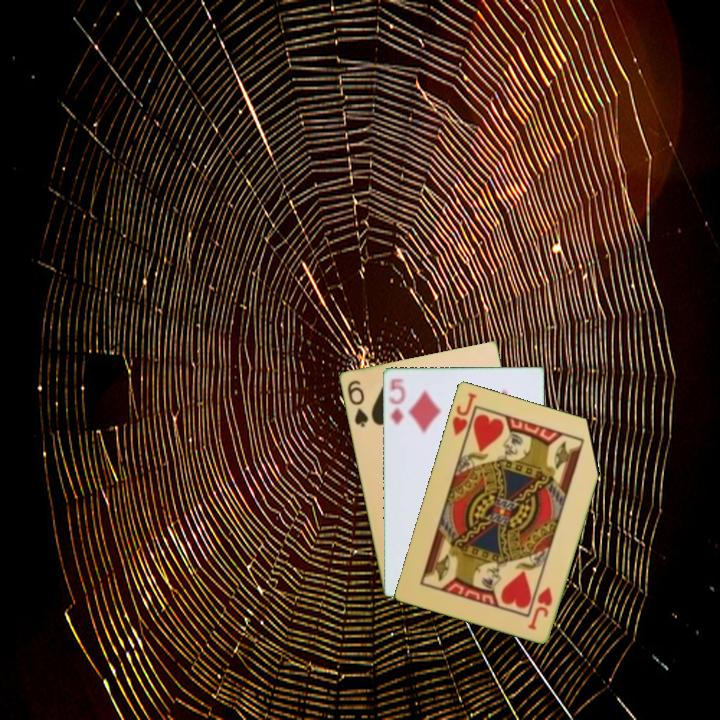5d: (385, 375, 408, 427)
6s: (343, 376, 371, 430)
Jh: (448, 389, 480, 446), (525, 583, 555, 632)
